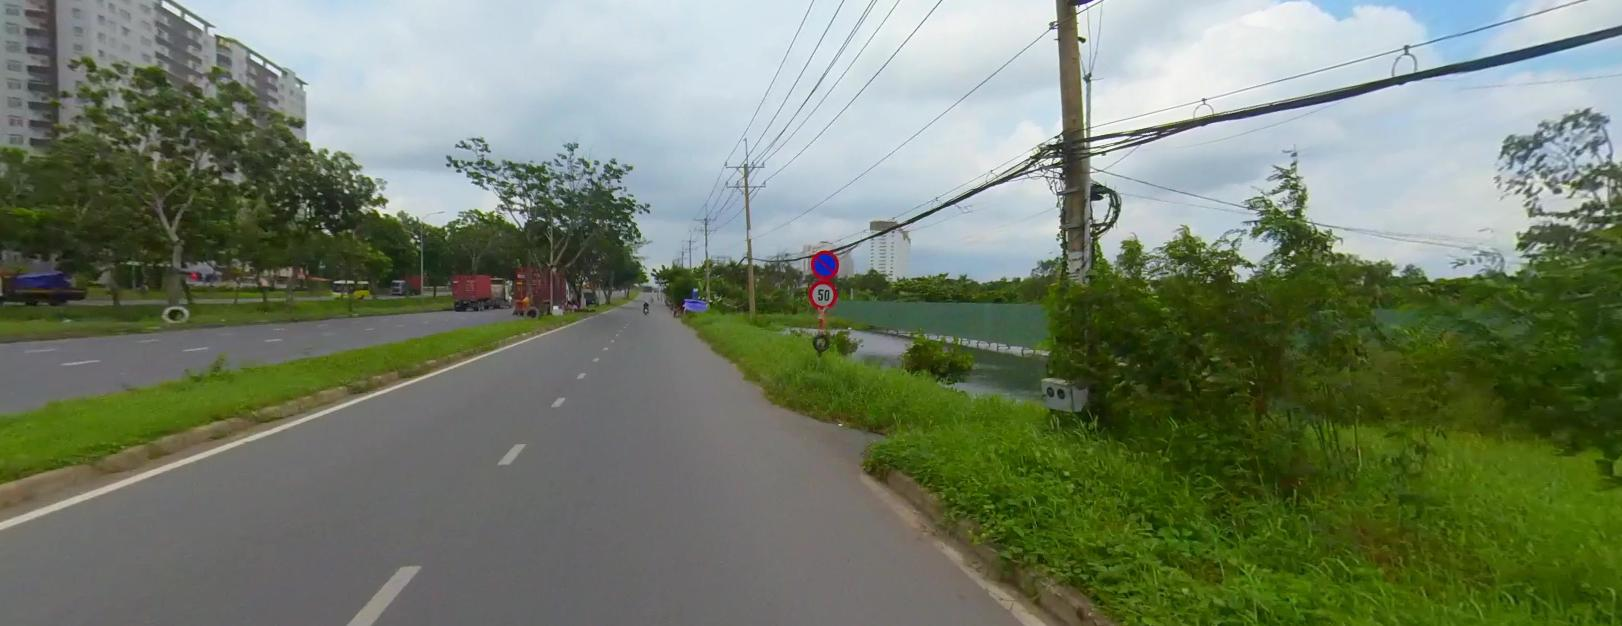Cam dung va do: (809, 248, 838, 277)
Gioi han toc do: (807, 277, 836, 306)
